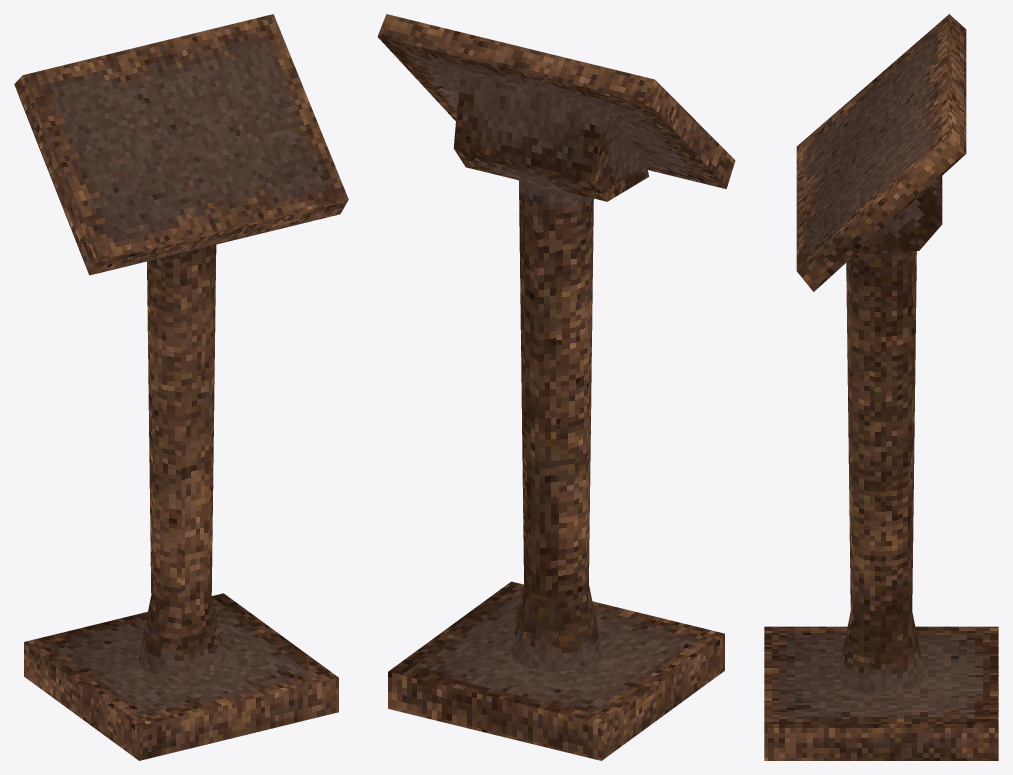
File: Lectern.gltf
The picture shows the model from 3 angles, left to right: view 1: azimuth 30°, elevation 25°; view 2: azimuth 150°, elevation 25°; view 3: azimuth 270°, elevation 25°; orthographic projection. The views are drawn at different scales.
Parts seen in each view (by area): view 1: Lectern; view 2: Lectern; view 3: Lectern.
Boxes of the visible parts, x1=… form: Lectern: x1=14, y1=14, x2=348, y2=760; Lectern: x1=377, y1=14, x2=735, y2=760; Lectern: x1=764, y1=14, x2=998, y2=760.
Bounding box in the file's own units: 1.91 × 4.55 × 1.52.
Materials: 1 (1 with a texture image).
